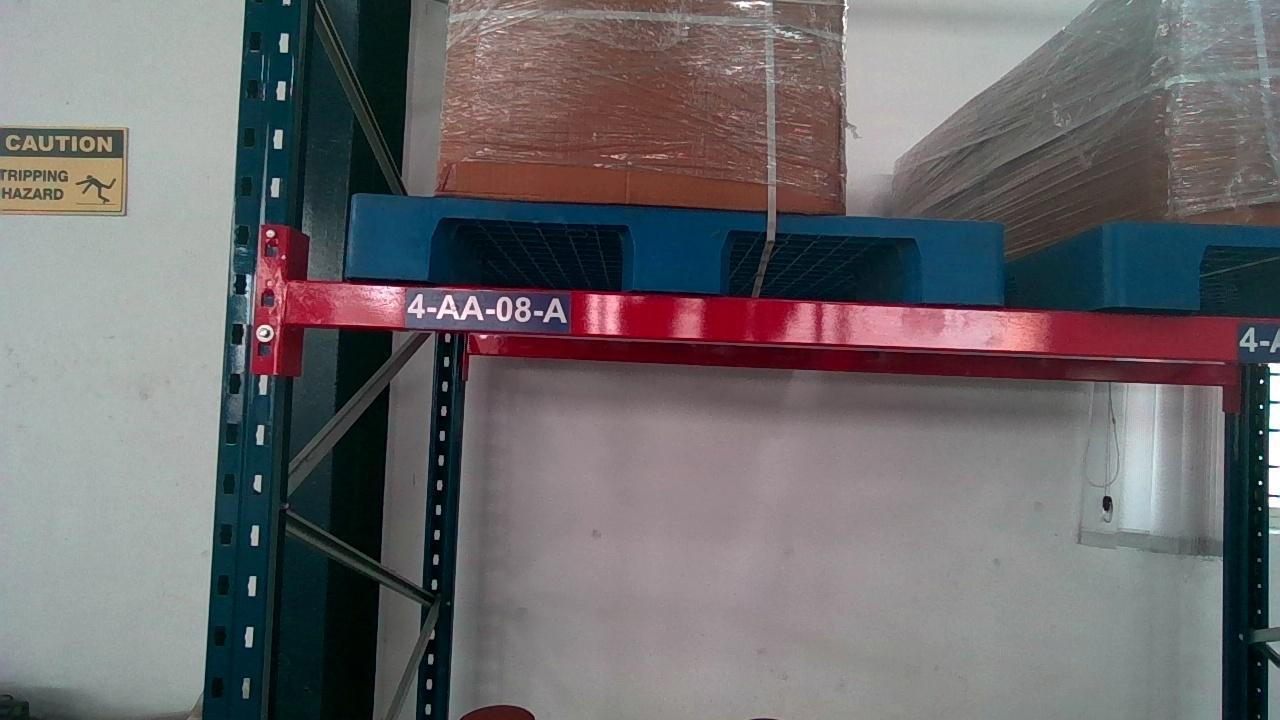h_rack: (292, 289, 1266, 353)
small_pallet: (345, 203, 999, 292), (1112, 224, 1280, 306)
